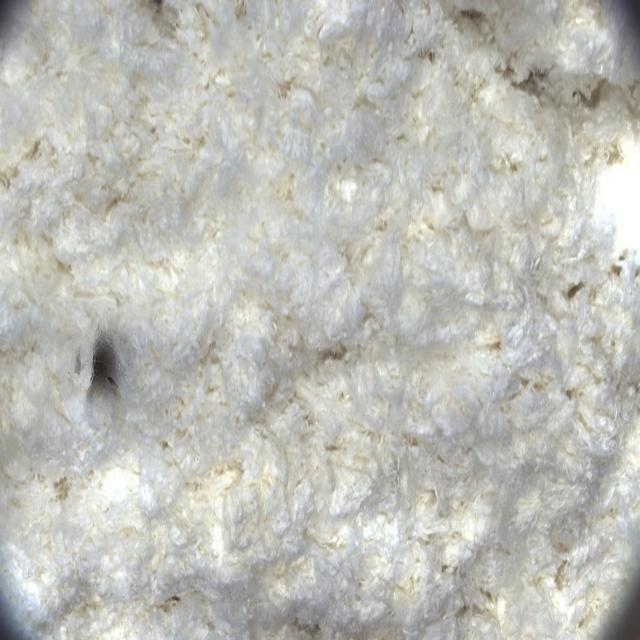dust: (56, 301, 160, 427)
